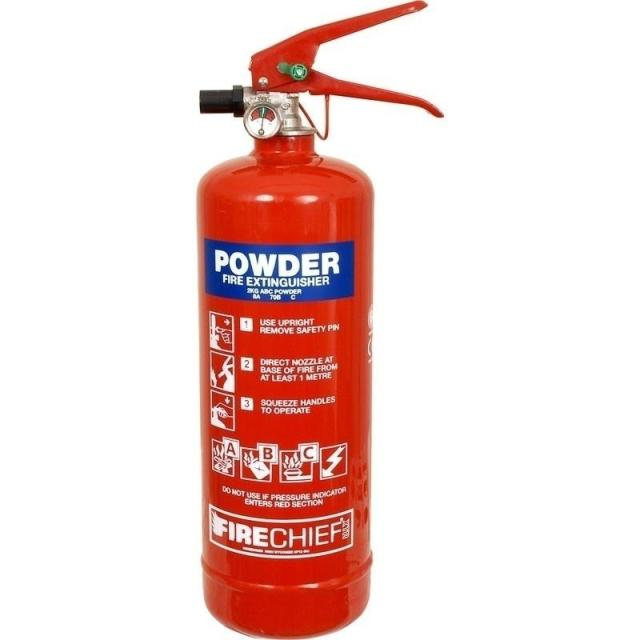fire_extinguisher: (192, 0, 448, 638)
